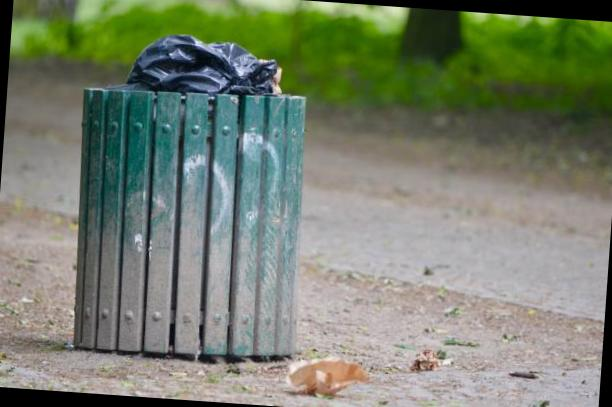trash: (115, 19, 311, 108), (281, 344, 382, 407), (411, 347, 458, 378), (502, 362, 544, 388)
trash_can_overflow: (22, 0, 413, 407)
